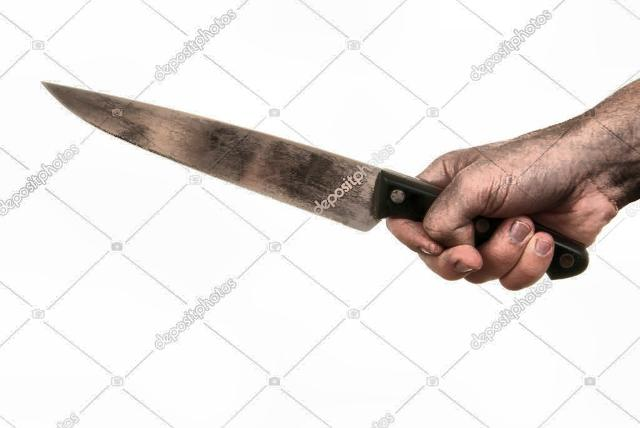knife: (32, 69, 536, 287)
